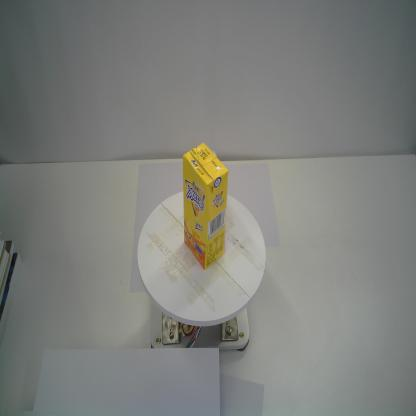Drink: (182, 142, 229, 271)
